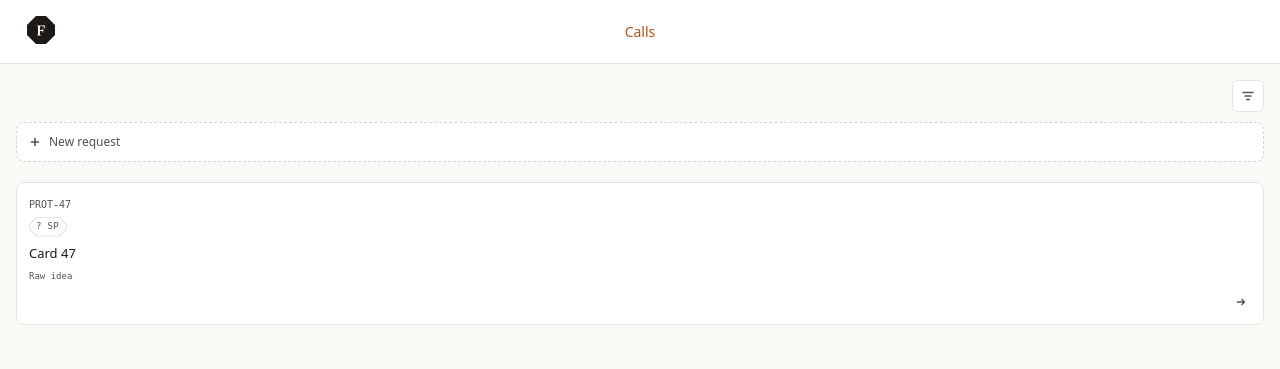
Test: Board, below 768px › swiping › moves to the next column on a left swipe and back on a right swipe
The image size is (1280, 369).
Press the mouse on the element showing "New request PROT-47 ? SP Card 47 Raw idea Archive" at [640, 208], box [0,64,1279,352]
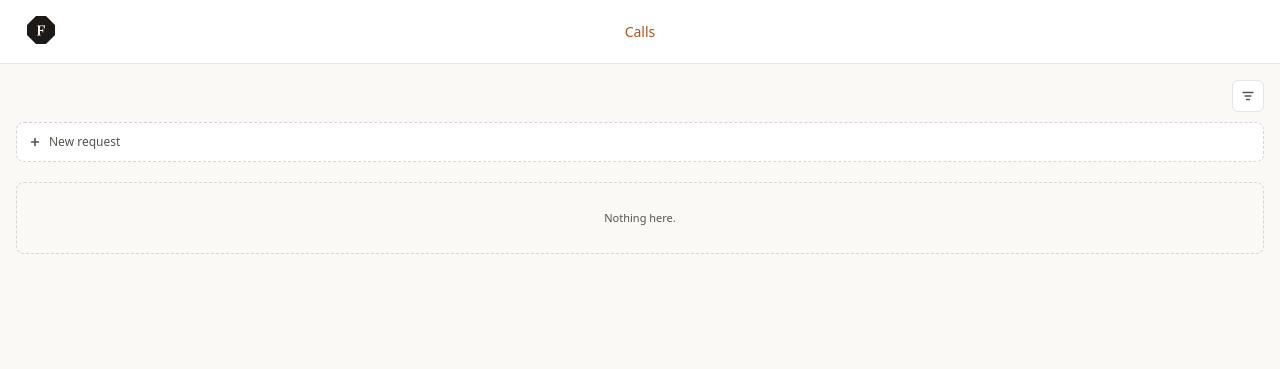
expect the element named "To Do" is shown: met, box [16,80,1264,266]
expect the list "Backlog" is gone: met
Press the mouse on the element showing "New request Nothing here. Archive" at [640, 173], box [0,64,1279,282]
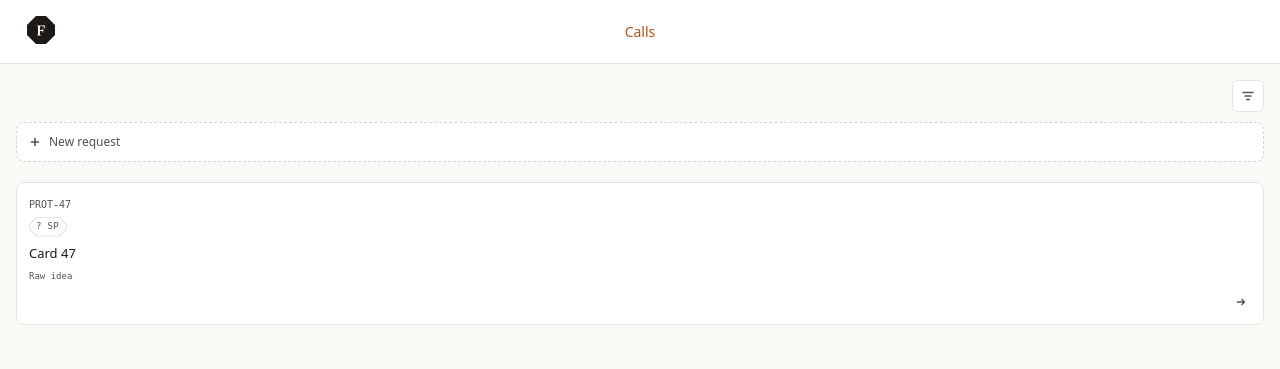
expect the element named "Backlog" is shown: met
